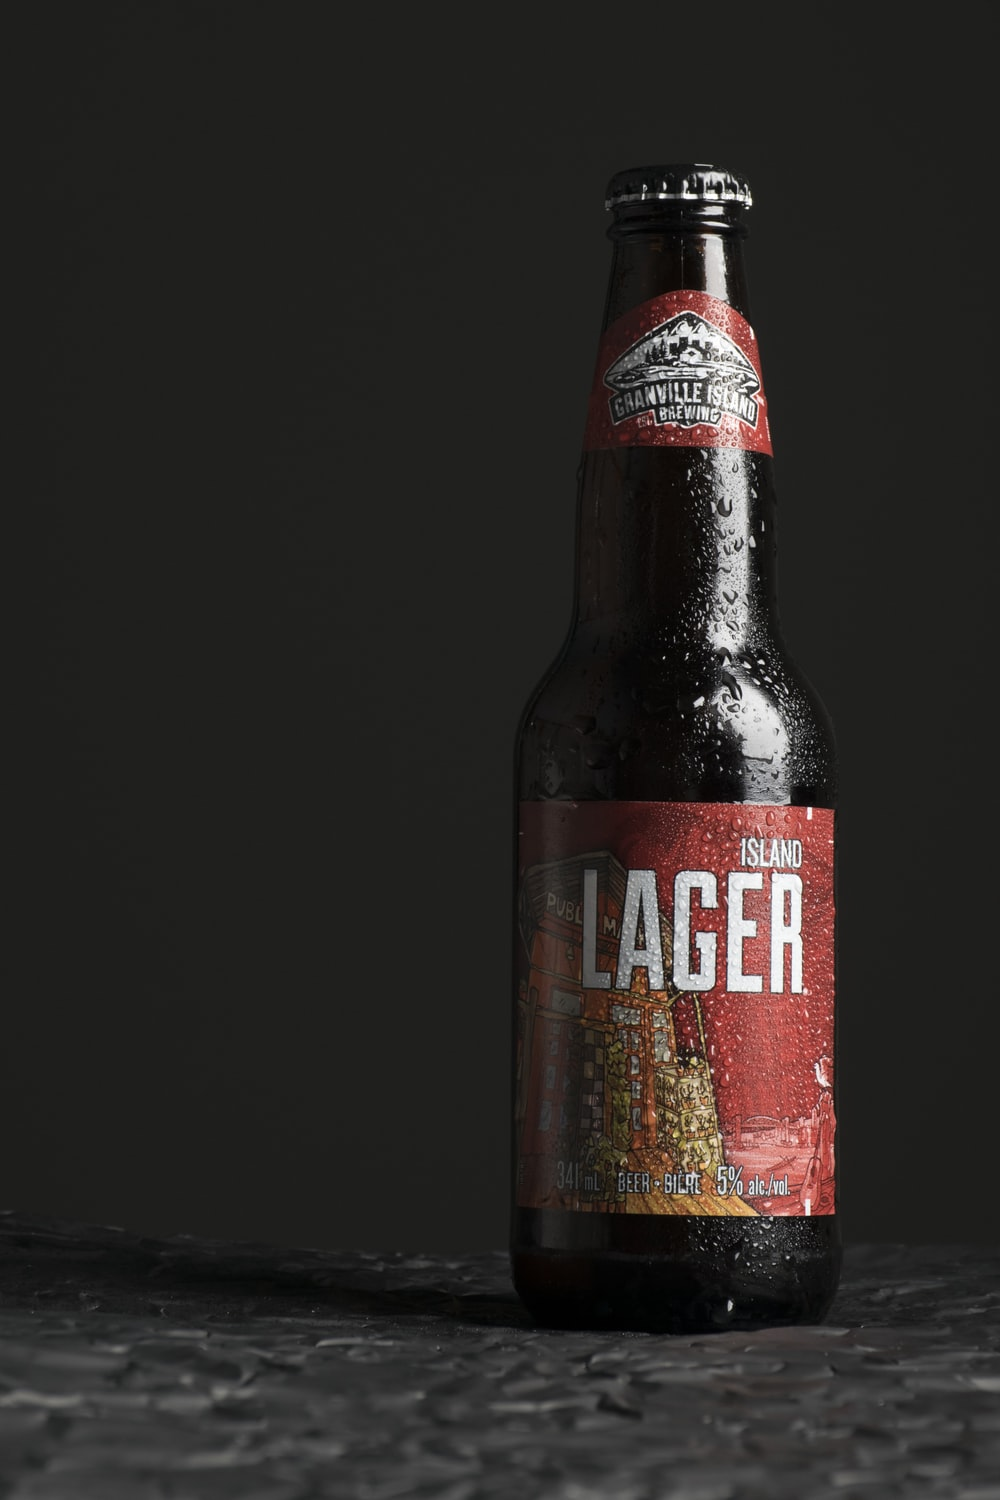glass_bottle: (500, 155, 850, 1336)
